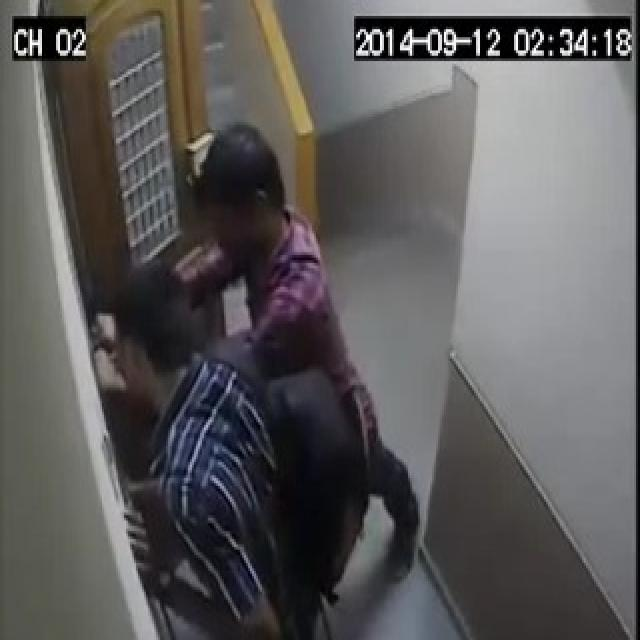thief: (106, 124, 362, 640)
